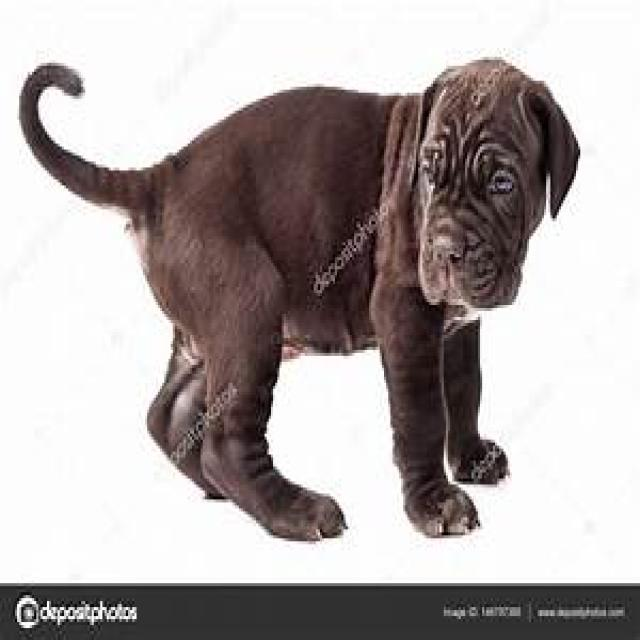dog: (17, 60, 582, 541)
